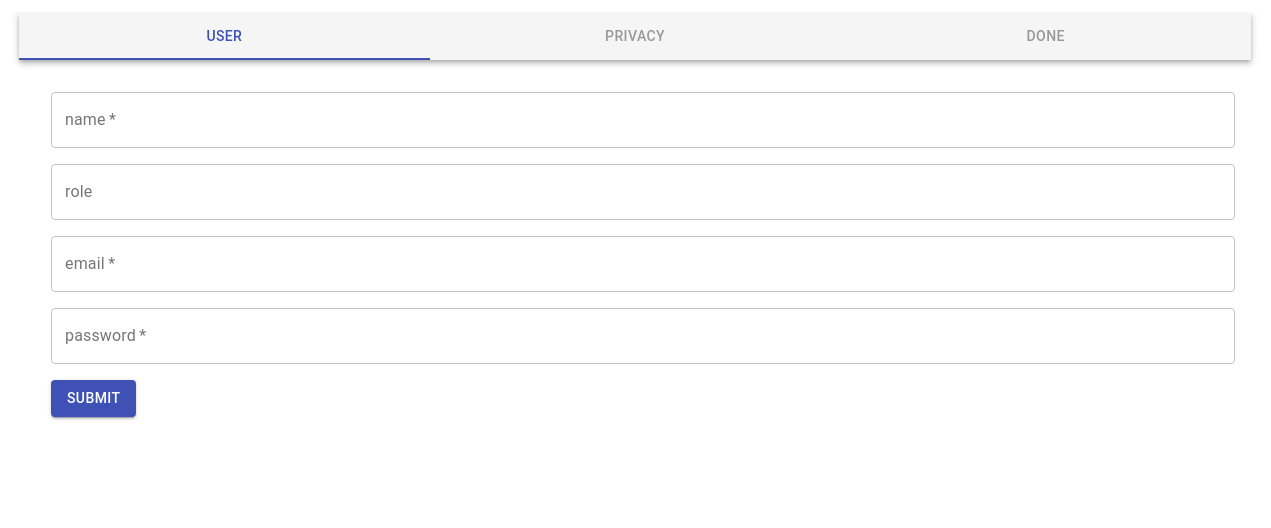
Test case: test sign up page › tests user form fields error state
In the field next to "role": (643, 192) [51, 164, 1235, 220], type "<"
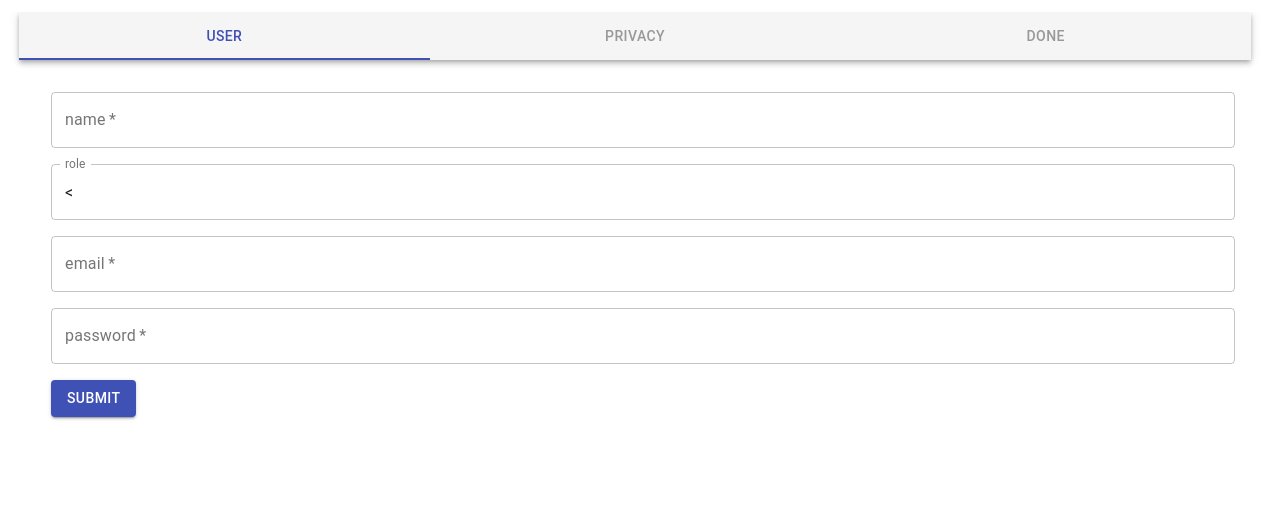
Click the button with test id "components/constants/buttonPrimary": (94, 398) [51, 380, 136, 416]
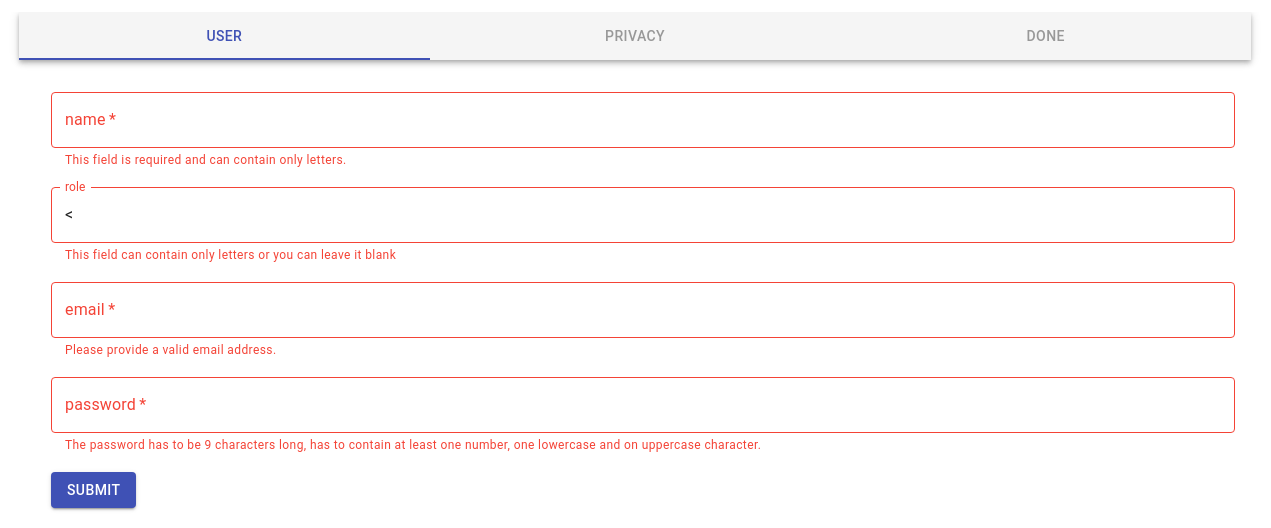
Now the text "The password has to be 9" is shown, box [65, 438, 761, 452]
